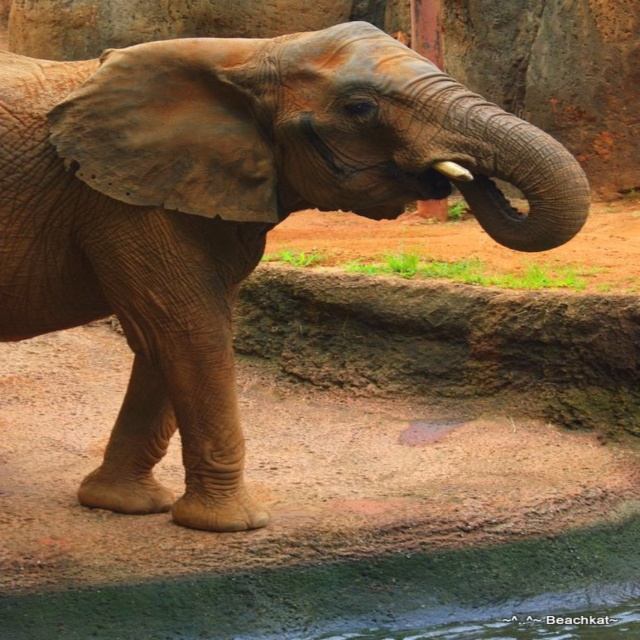Elephant: (0, 44, 549, 515)
